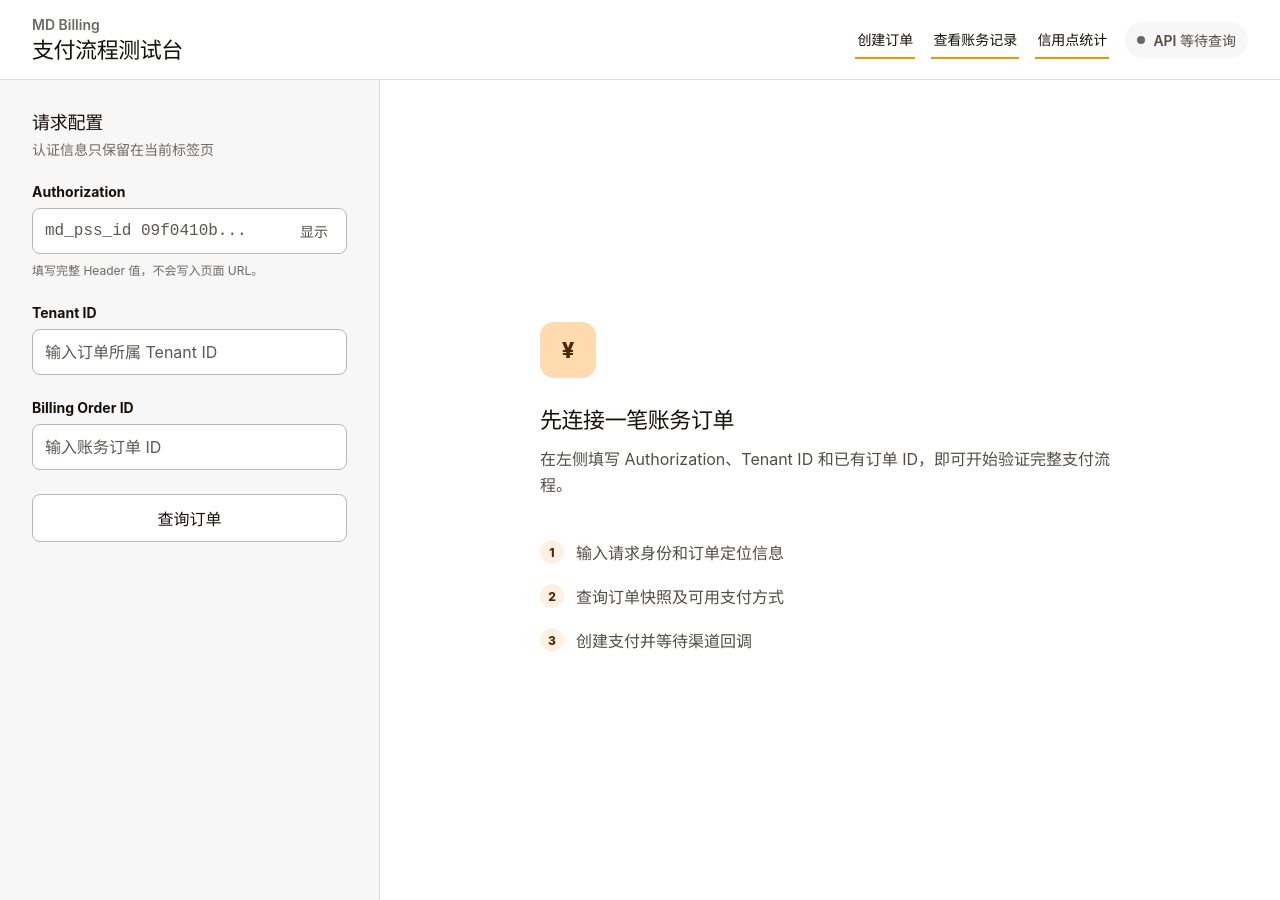
payment test page › shows the authentication failure returned by the API
The image size is (1280, 900).
Type "md_pss_id expired" into the password field labelled "Authorization" at (190,231), box 32,208 -> 347,254
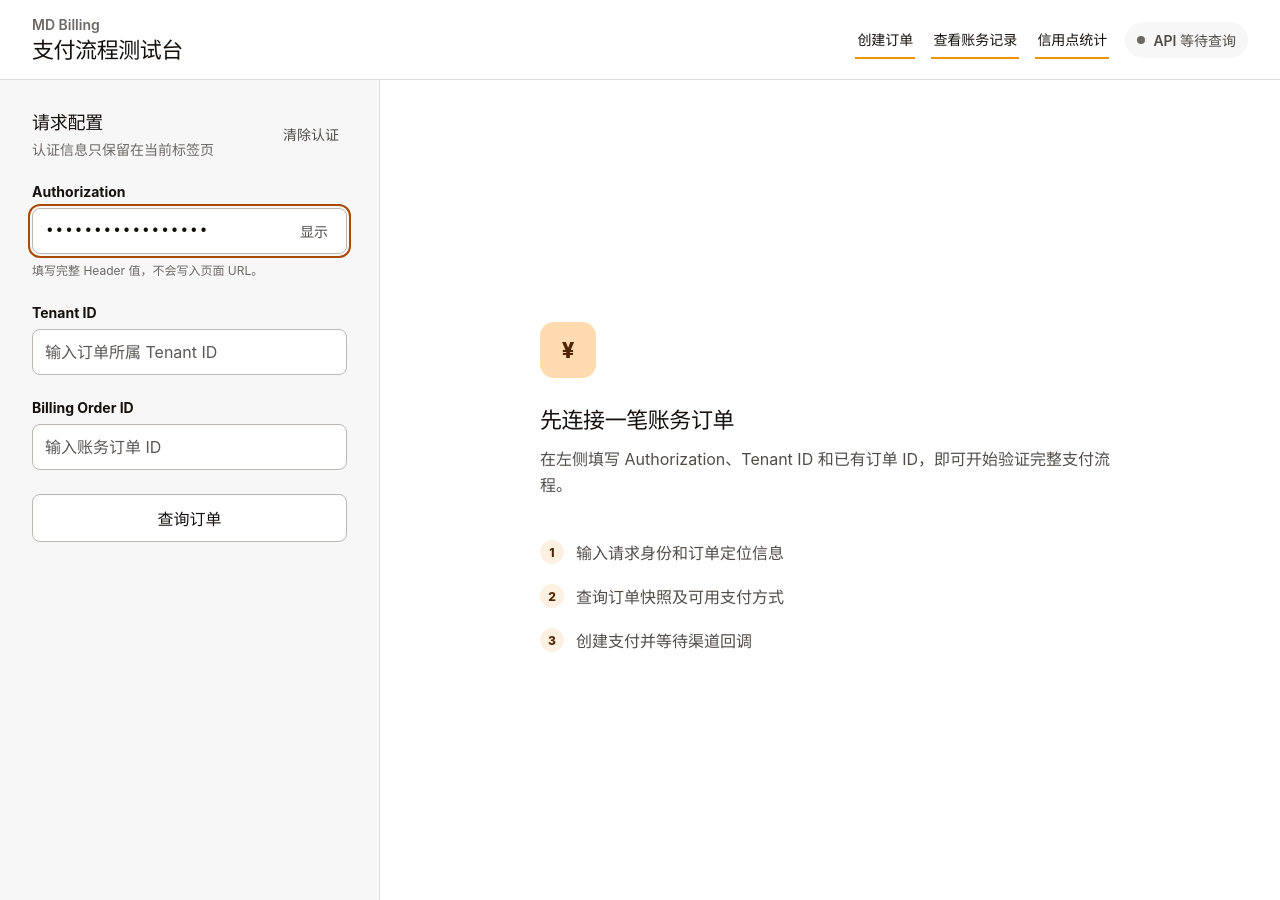
Type "tenant-1" into the field labelled "Tenant ID" at (190,352), box 32,329 -> 347,375
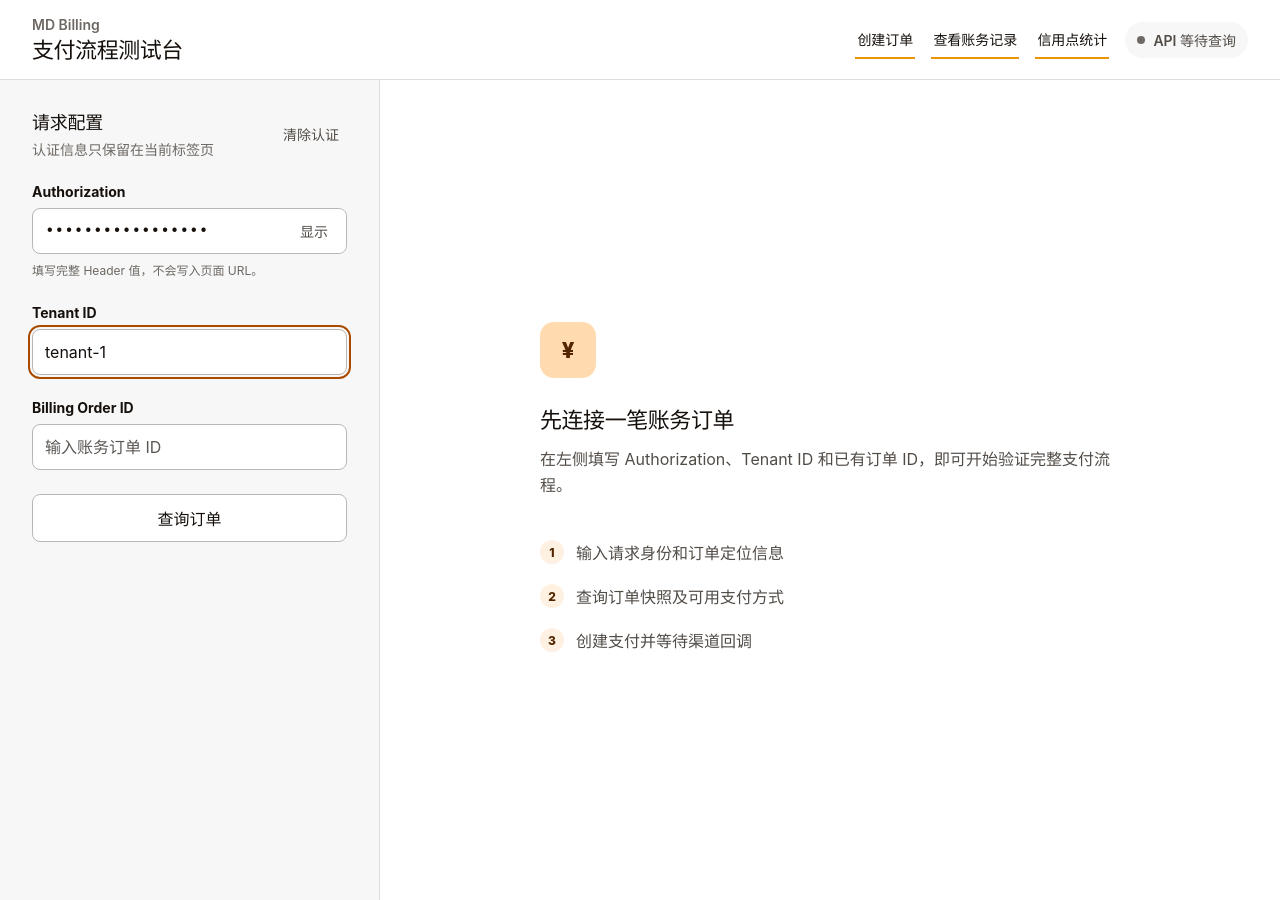
Type "order-1" into the field labelled "Billing Order ID" at (190,447), box 32,424 -> 347,470
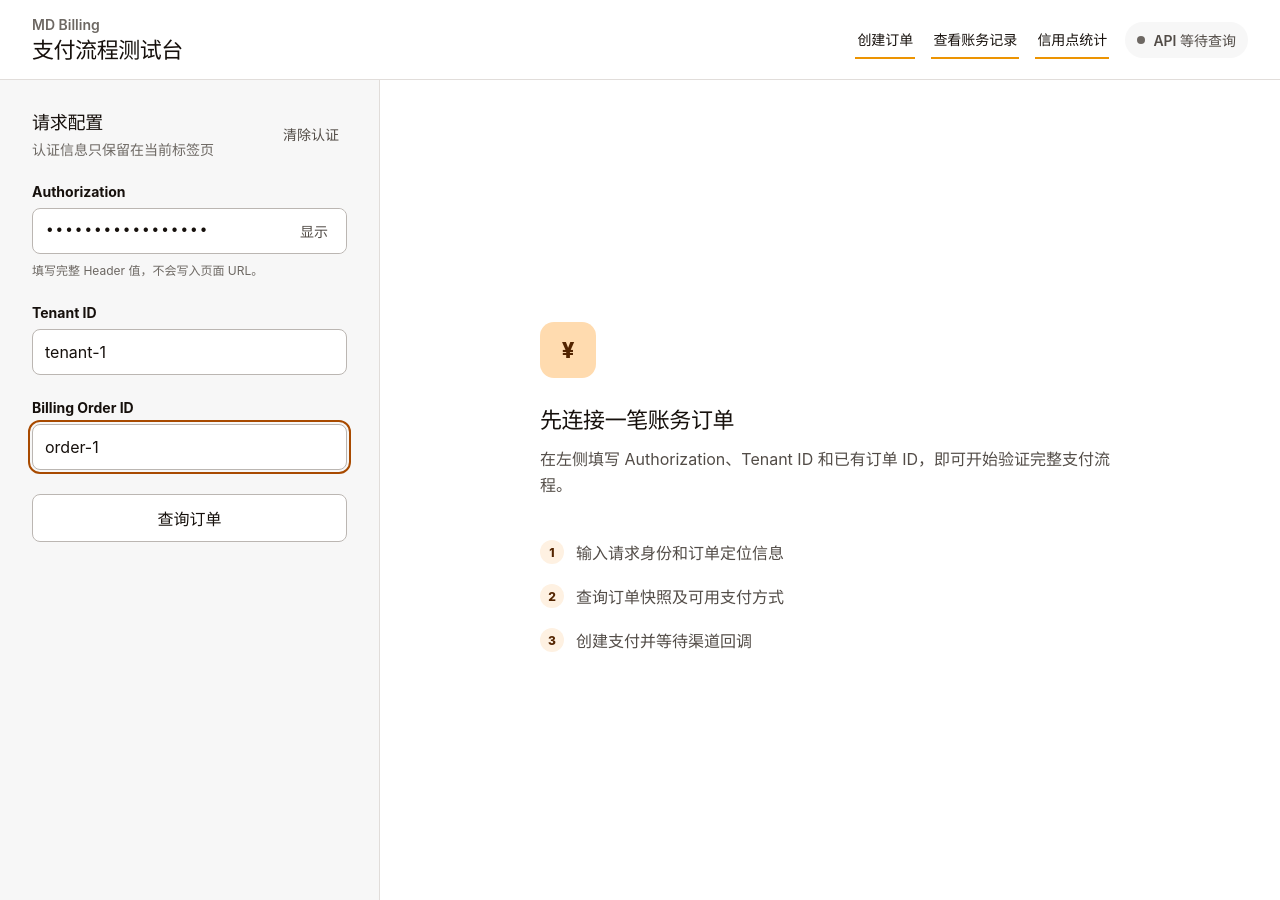
Click the button "查询订单" at (190,518), box 32,494 -> 347,542
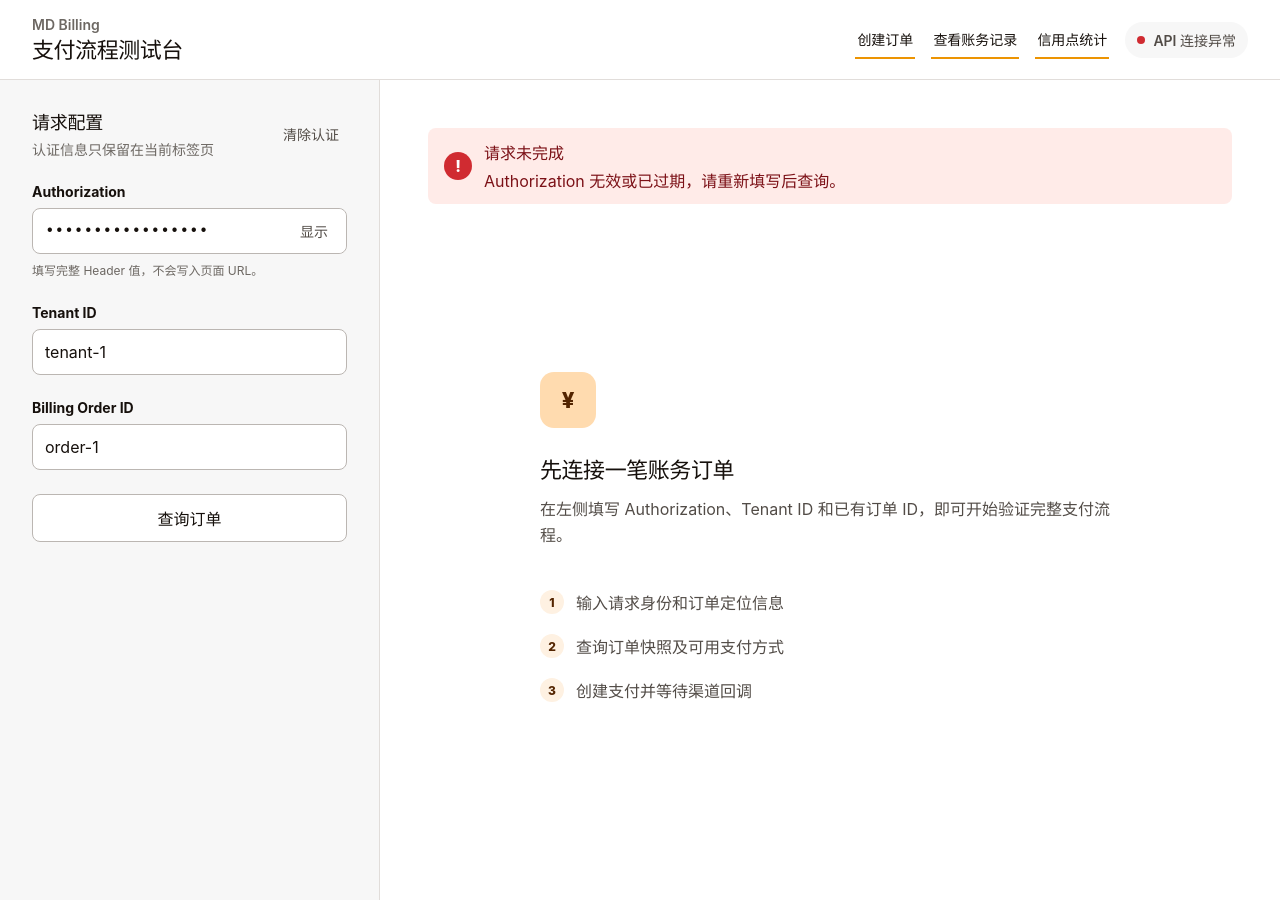
Check: the text "Authorization 无效或已过期，请重新填写后查询。" is shown, box 484,168 -> 845,192
